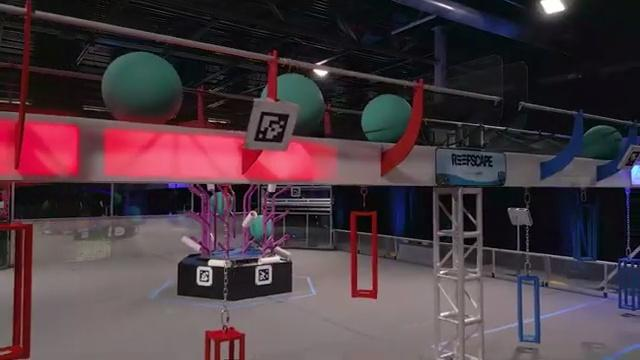ALGAE: (100, 50, 183, 124), (261, 73, 326, 134), (362, 93, 416, 148), (580, 124, 623, 164)
